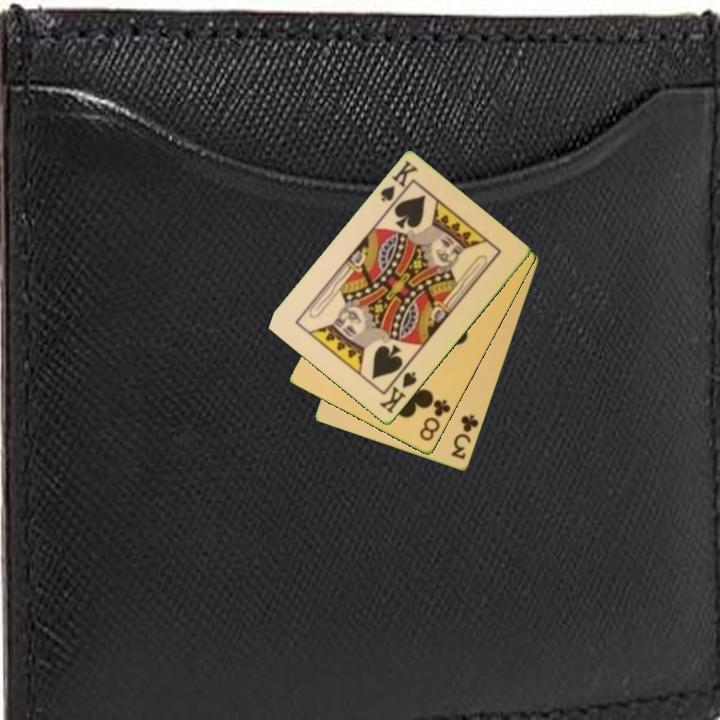3c: (447, 411, 482, 462)
8c: (416, 396, 454, 444)
Ks: (377, 157, 421, 212), (376, 363, 420, 417)
